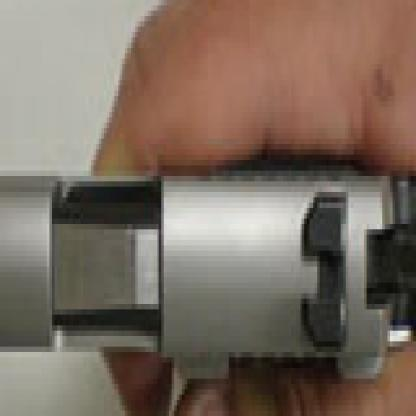gun: (0, 154, 414, 395)
